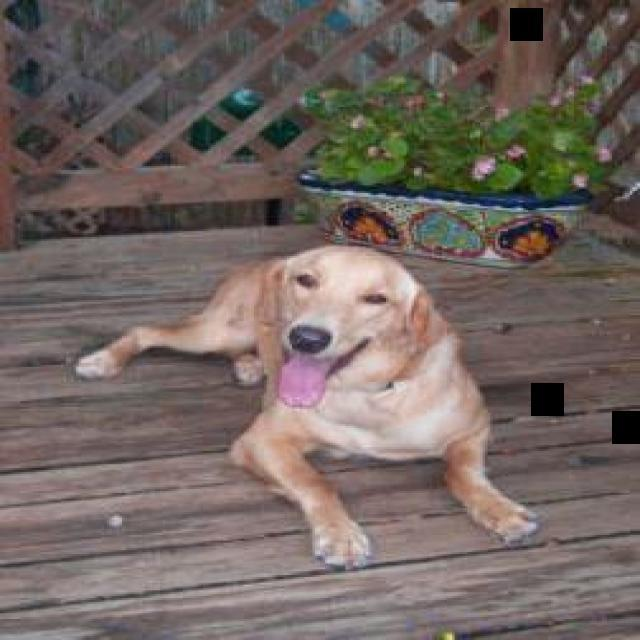adult_dog: (73, 244, 548, 577)
